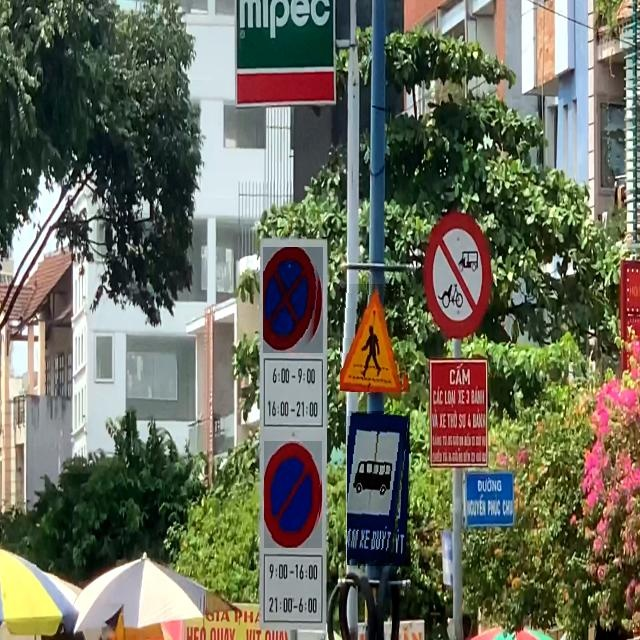bien_nguy_hiem: (347, 411, 410, 566), (340, 284, 410, 392), (264, 248, 324, 354), (264, 441, 322, 548)
